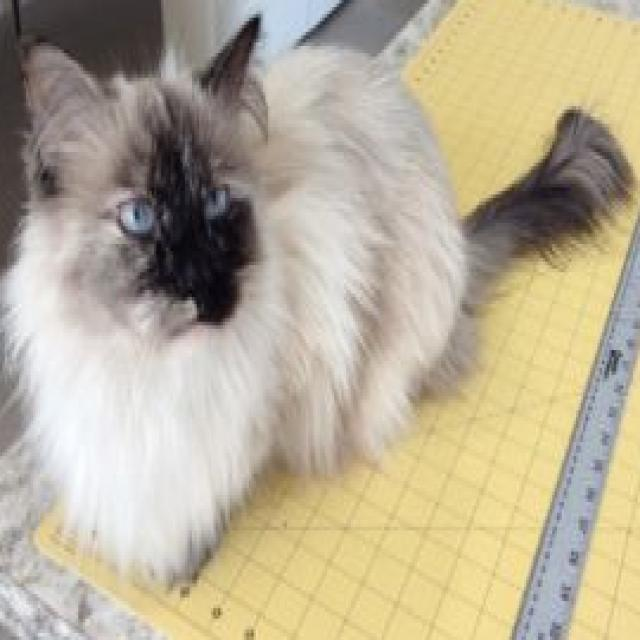Birman: (0, 3, 626, 580)
